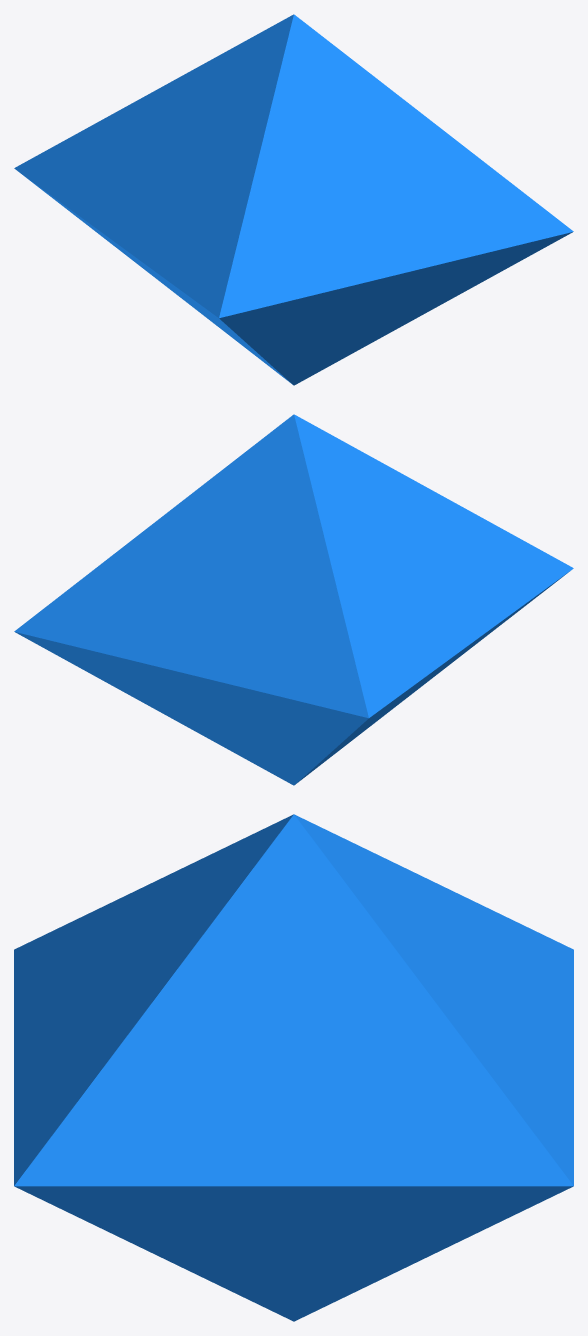
The model's file is Proto_Block_Gem_Faceted_01.fbx.
The picture shows the model from 3 angles, top to bottom: view 1: azimuth 30°, elevation 25°; view 2: azimuth 150°, elevation 25°; view 3: azimuth 270°, elevation 25°; orthographic projection. The views are drawn at different scales.
Parts seen in each view (by area): view 1: Proto_Block_Gem_Faceted_01; view 2: Proto_Block_Gem_Faceted_01; view 3: Proto_Block_Gem_Faceted_01.
Part boxes in pixels (x1,y1,x2,y2): Proto_Block_Gem_Faceted_01: [14, 14, 573, 385]; Proto_Block_Gem_Faceted_01: [14, 414, 573, 785]; Proto_Block_Gem_Faceted_01: [14, 814, 573, 1321].
Size of the model in its own units: 1 by 1 by 1.
